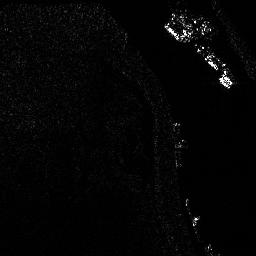ship: (163, 23, 192, 44)
